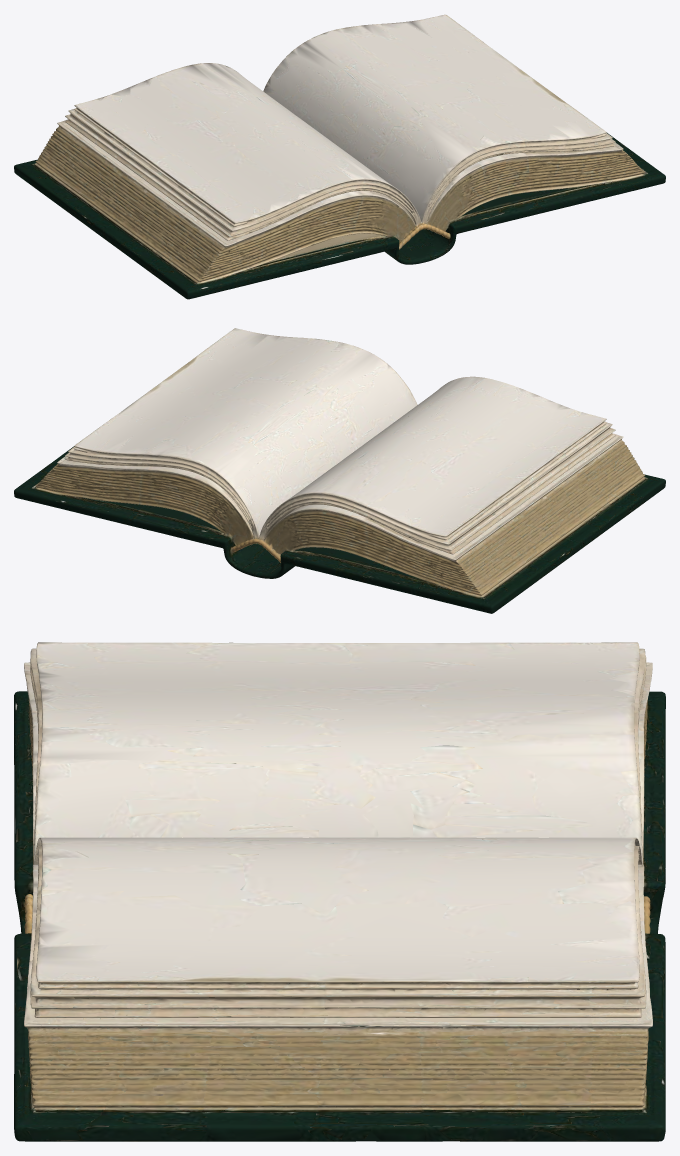
File: book.glb
3 views of the same model, one above another, from view 1: azimuth 30°, elevation 25°; view 2: azimuth 150°, elevation 25°; view 3: azimuth 270°, elevation 25° (orthographic). The views are drawn at different scales.
Bounding box in the file's own units: 1.9 × 0.3638 × 1.2.
Materials: 1 (1 with a texture image).
